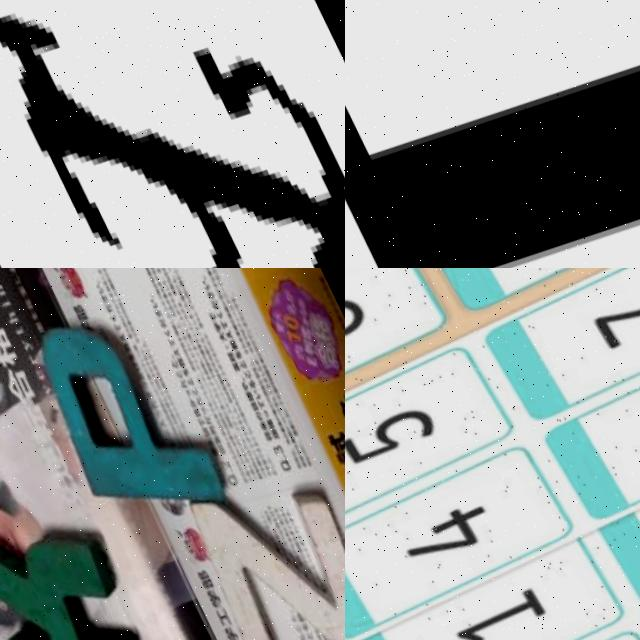1: (432, 569, 548, 640)
4: (373, 481, 504, 583)
5: (345, 383, 444, 483)
7: (572, 268, 640, 358)
8: (345, 276, 374, 375)
G: (0, 0, 345, 268)
I: (345, 0, 640, 268)
K: (0, 490, 158, 640)
P: (17, 292, 226, 537)
Z: (169, 446, 345, 640)
